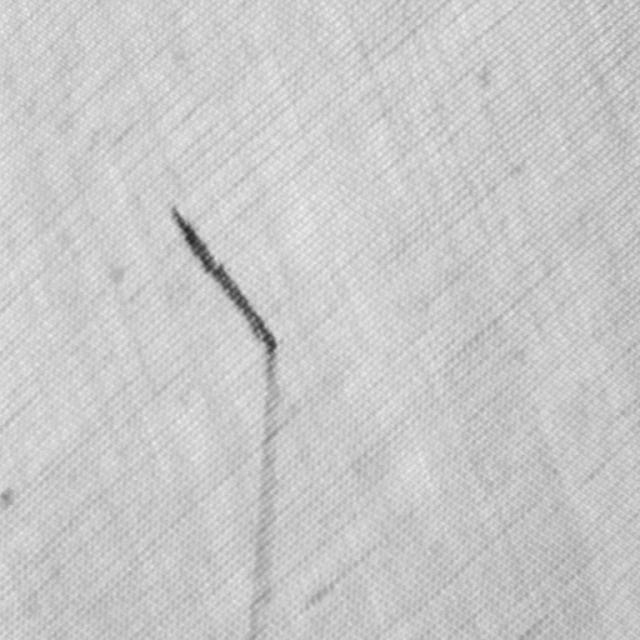oil spot: (168, 197, 278, 355), (244, 350, 282, 638)
